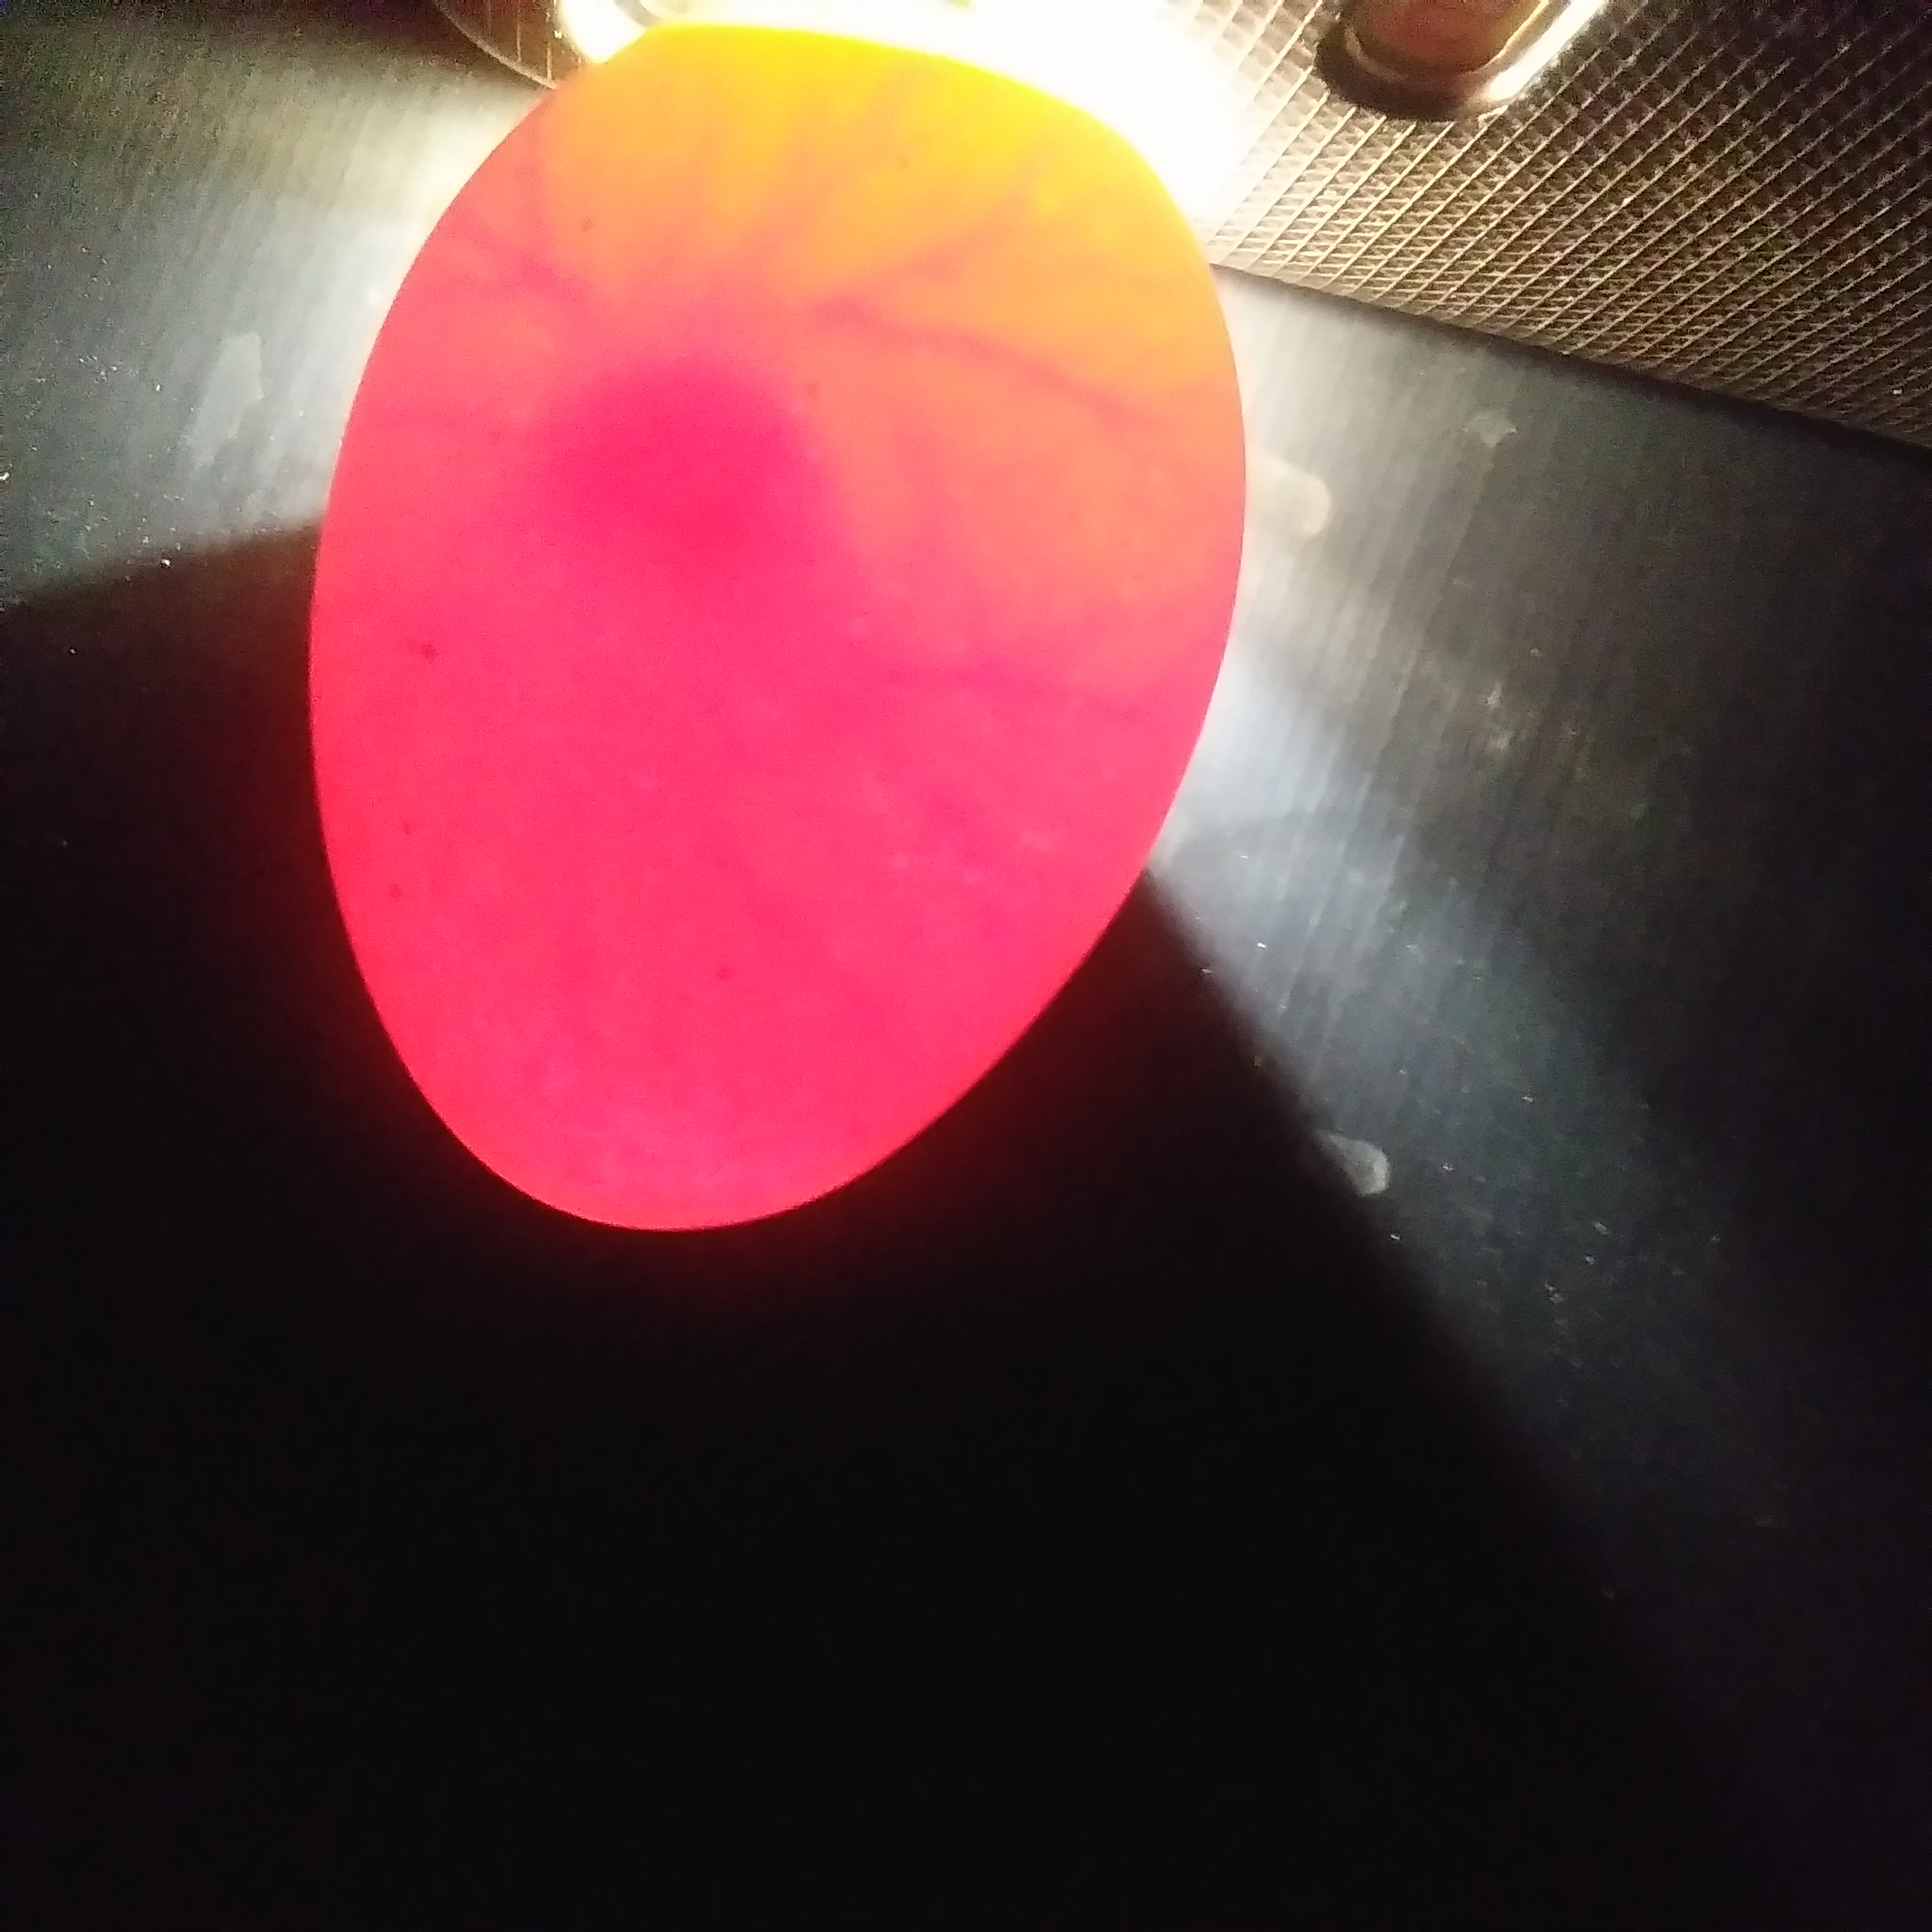bloodcell: (695, 99, 1115, 380)
embryo: (557, 375, 732, 515)
